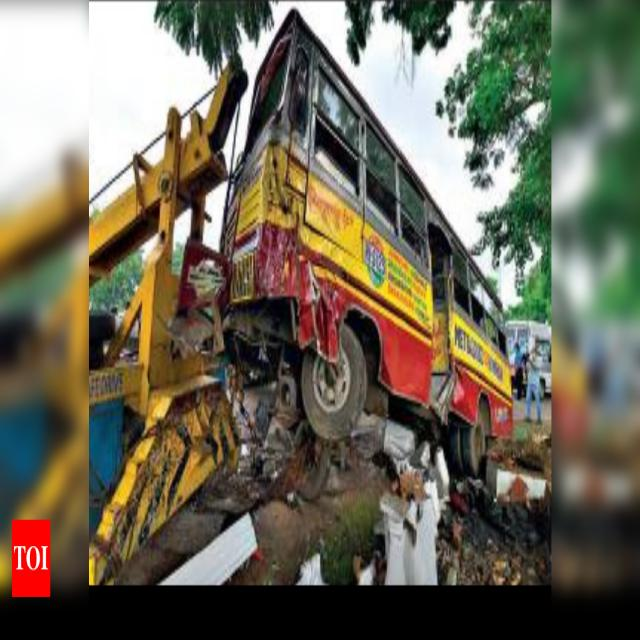accident: (222, 12, 512, 473)
